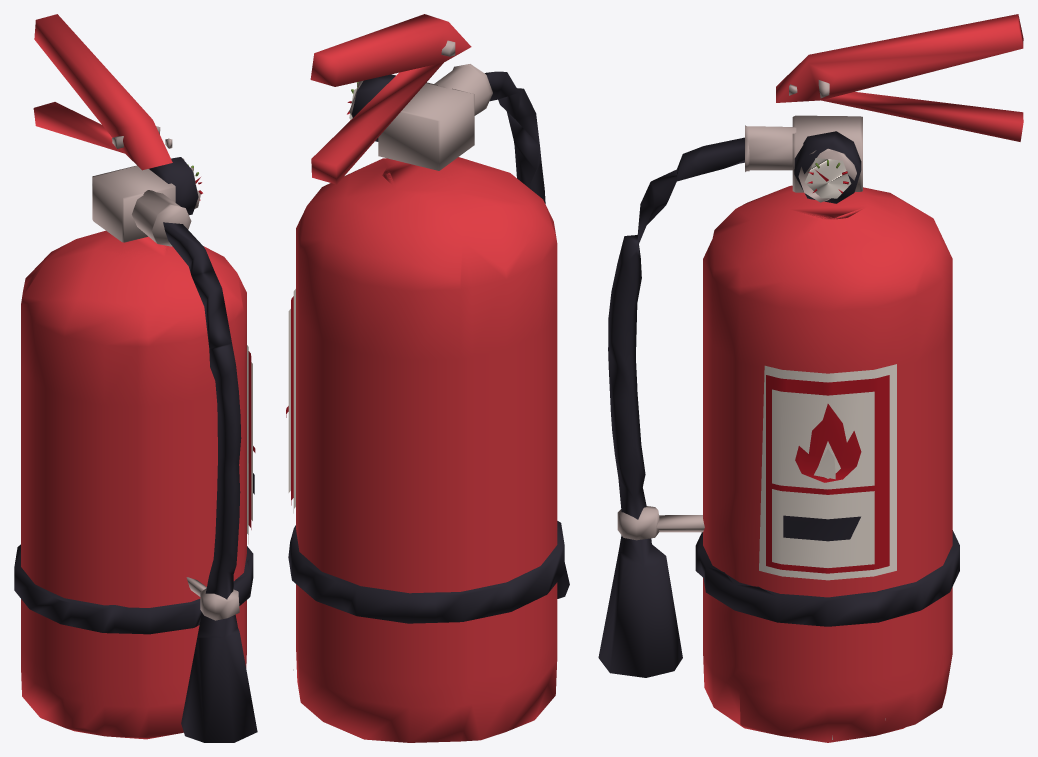
Rendered from prop.fire-extinguisher.lod1.glb.
3 renders of one model, left to right at view 1: azimuth 30°, elevation 25°; view 2: azimuth 150°, elevation 25°; view 3: azimuth 270°, elevation 25°, orthographic. The views are drawn at different scales.
Size of the model in its own units: 0.4118 by 1.14 by 0.6469.
